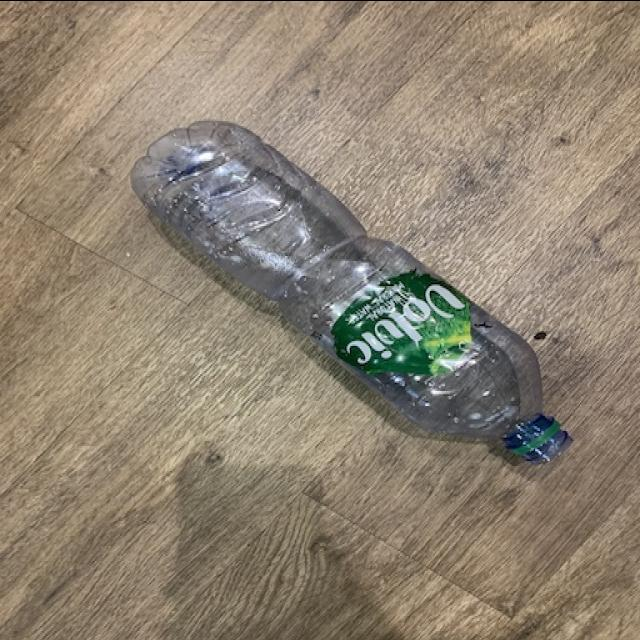litter: (130, 110, 580, 472)
